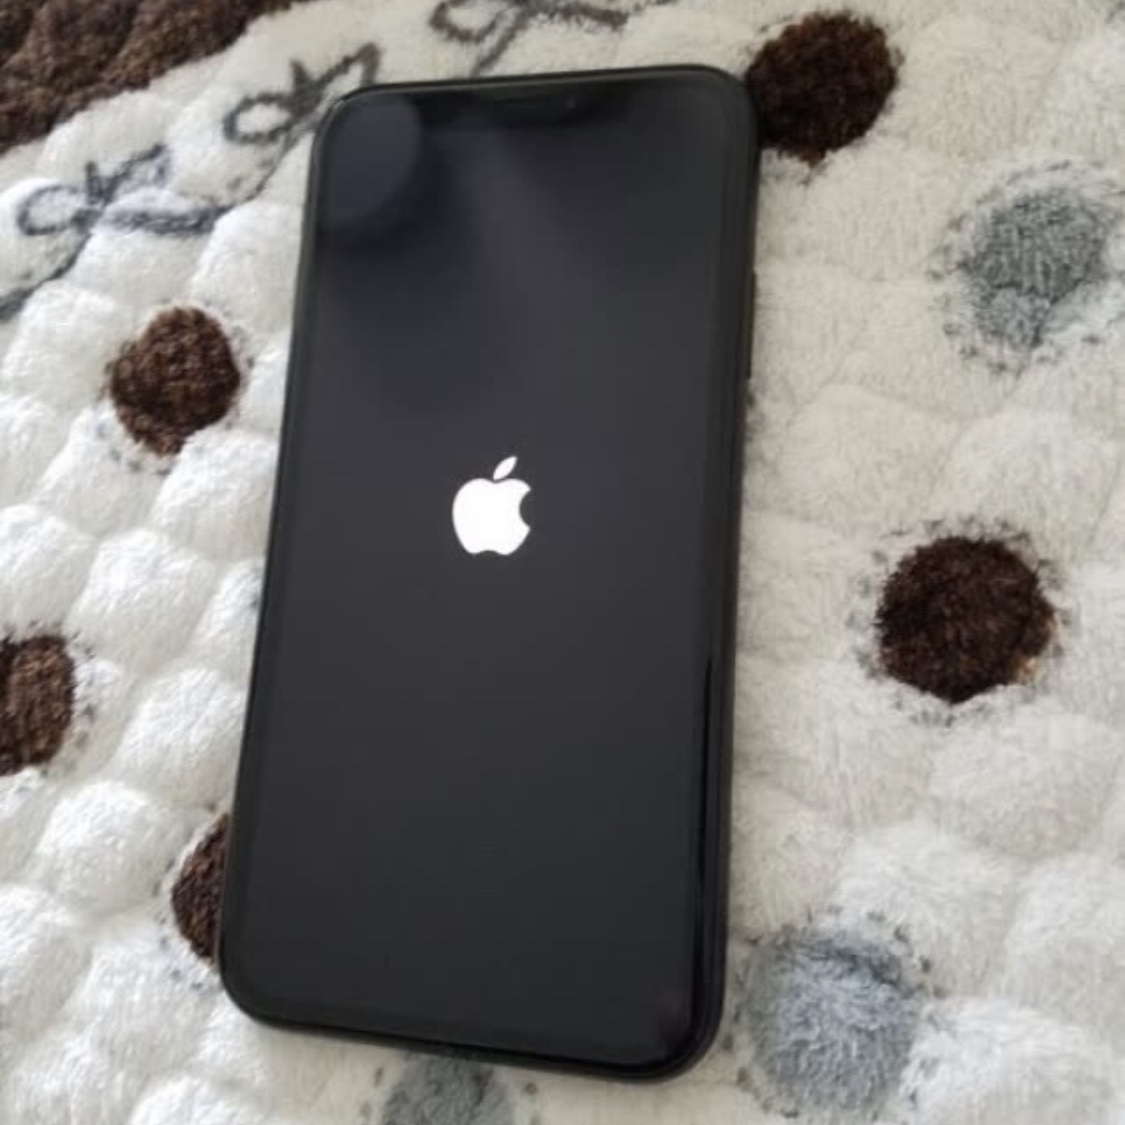mobil: (211, 50, 747, 1088)
